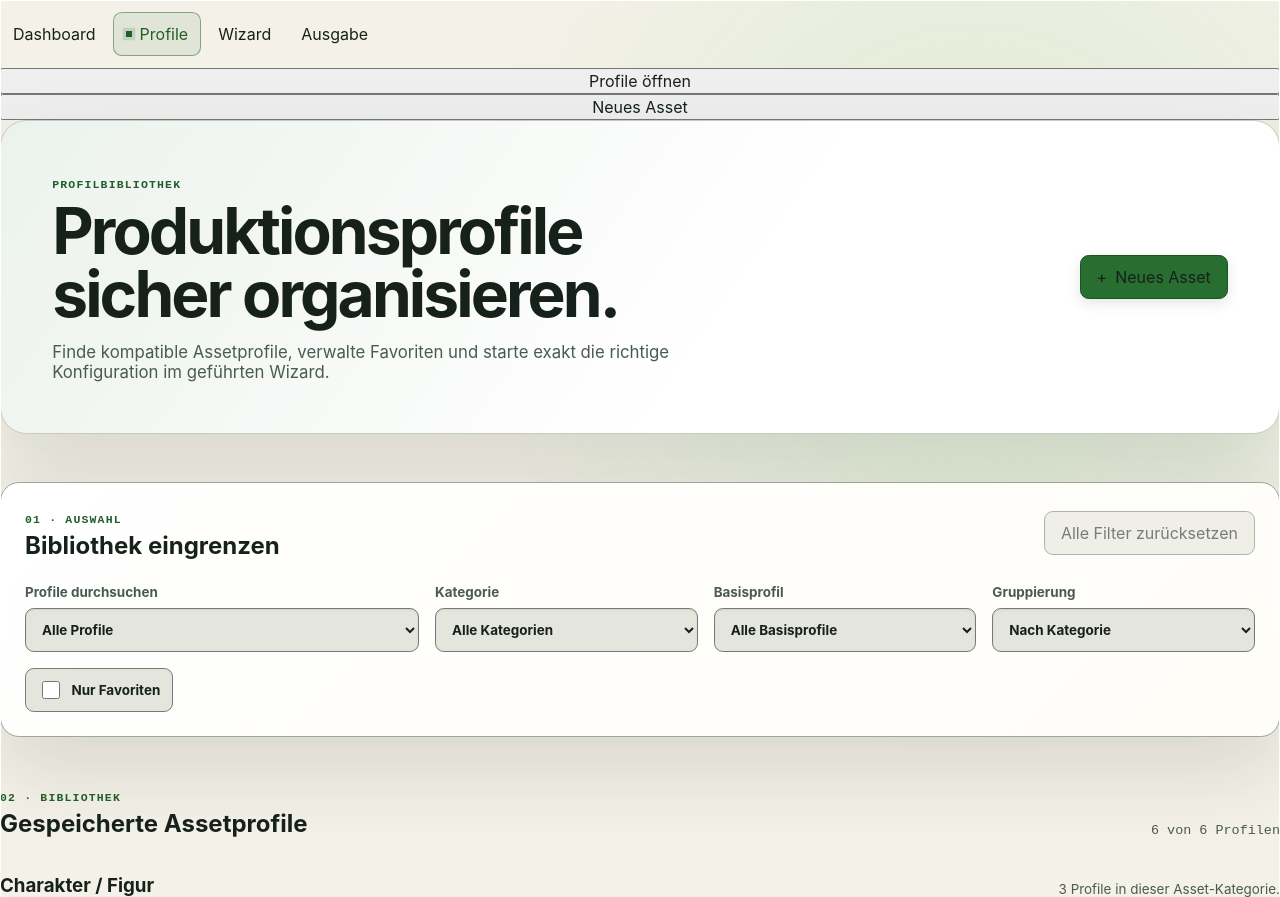
Test: profile library user flows › groups by resolved technical compatibility without displaying the key
Select "Nach technischer Kompatibilität" in the dropdown labelled "Gruppierung": (1124, 630) [992,608,1255,652]
(page scrolled)
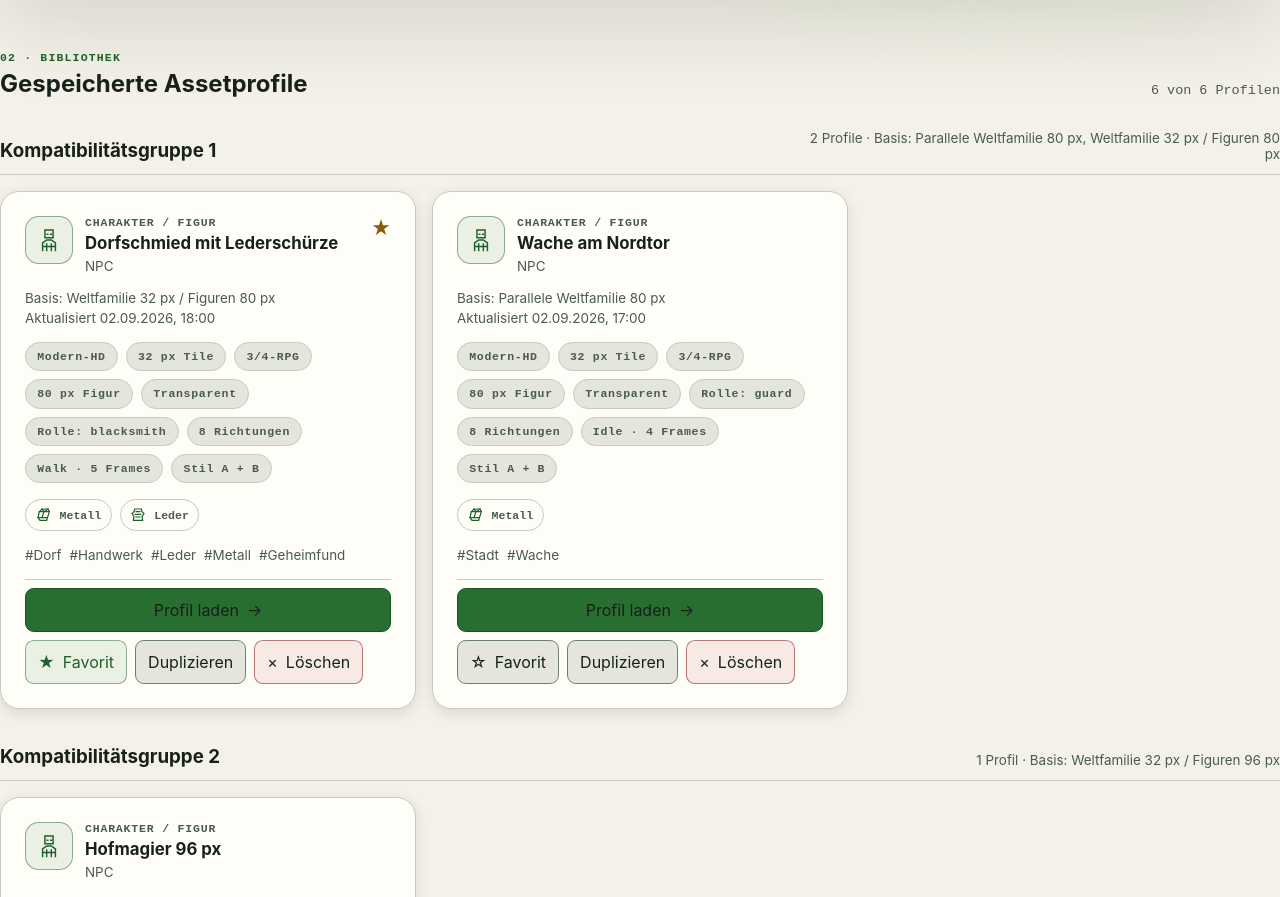
Expected: the element "Dorfschmied mit Lederschürze" is shown, [0,191,416,709]
Now the number of headings "Kompatibilitätsgruppe 1" is 4
